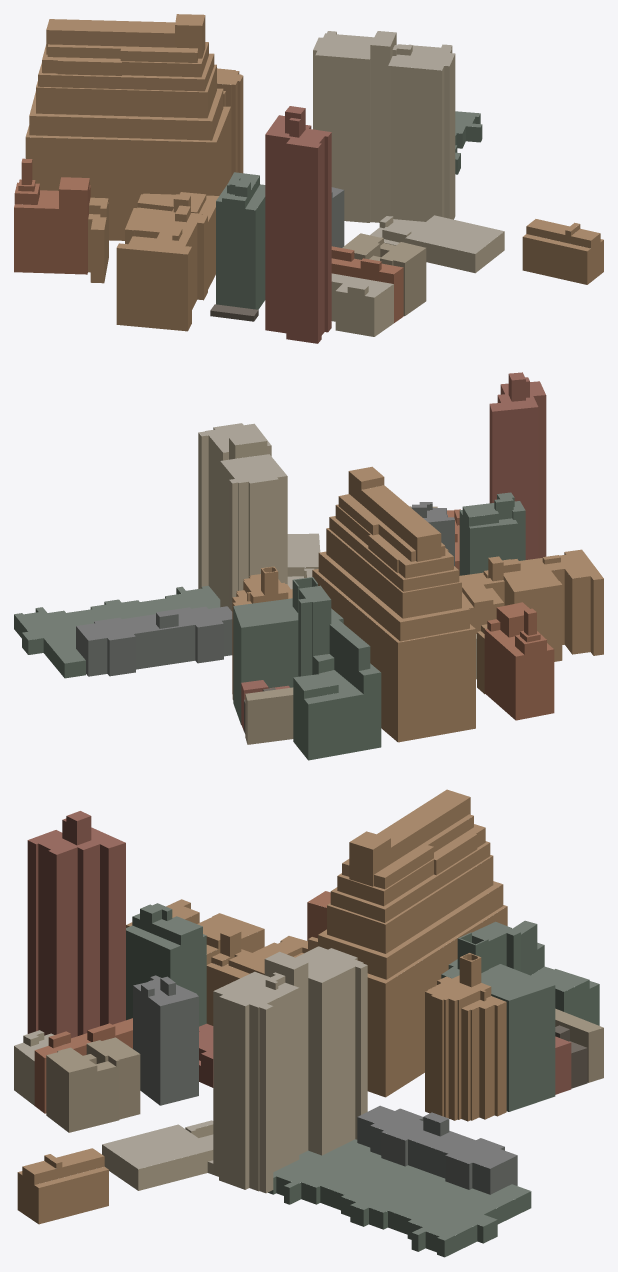
The model's file is tile--4_12.glb.
3 renders of one model, top to bottom at view 1: azimuth 30°, elevation 25°; view 2: azimuth 150°, elevation 25°; view 3: azimuth 270°, elevation 25°, orthographic. The views are drawn at different scales.
Parts seen in each view (by area): view 1: wall, roof; view 2: wall, roof; view 3: wall, roof.
Boxes of the visible parts, x1,y1,x2,y2 form: wall: (14,16,603,343); roof: (14,14,603,315); wall: (14,374,603,760); roof: (14,372,603,704); wall: (14,797,603,1257); roof: (14,789,603,1240).
Bounding box in the file's own units: 237 × 99.12 × 212.
